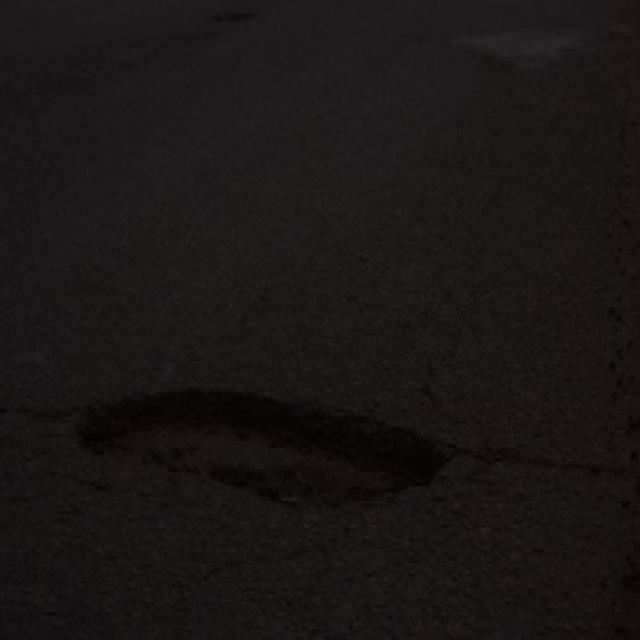Pothole: (72, 388, 475, 513)
